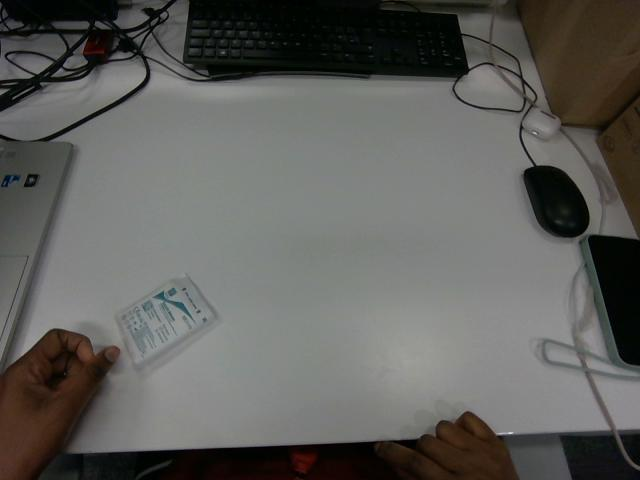gauze: (116, 274, 216, 365)
